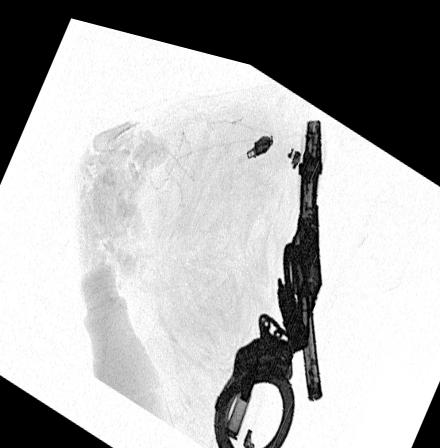Bullet: (223, 349, 256, 428)
Gun: (275, 100, 321, 341)
HandCuffs: (209, 299, 296, 448)
